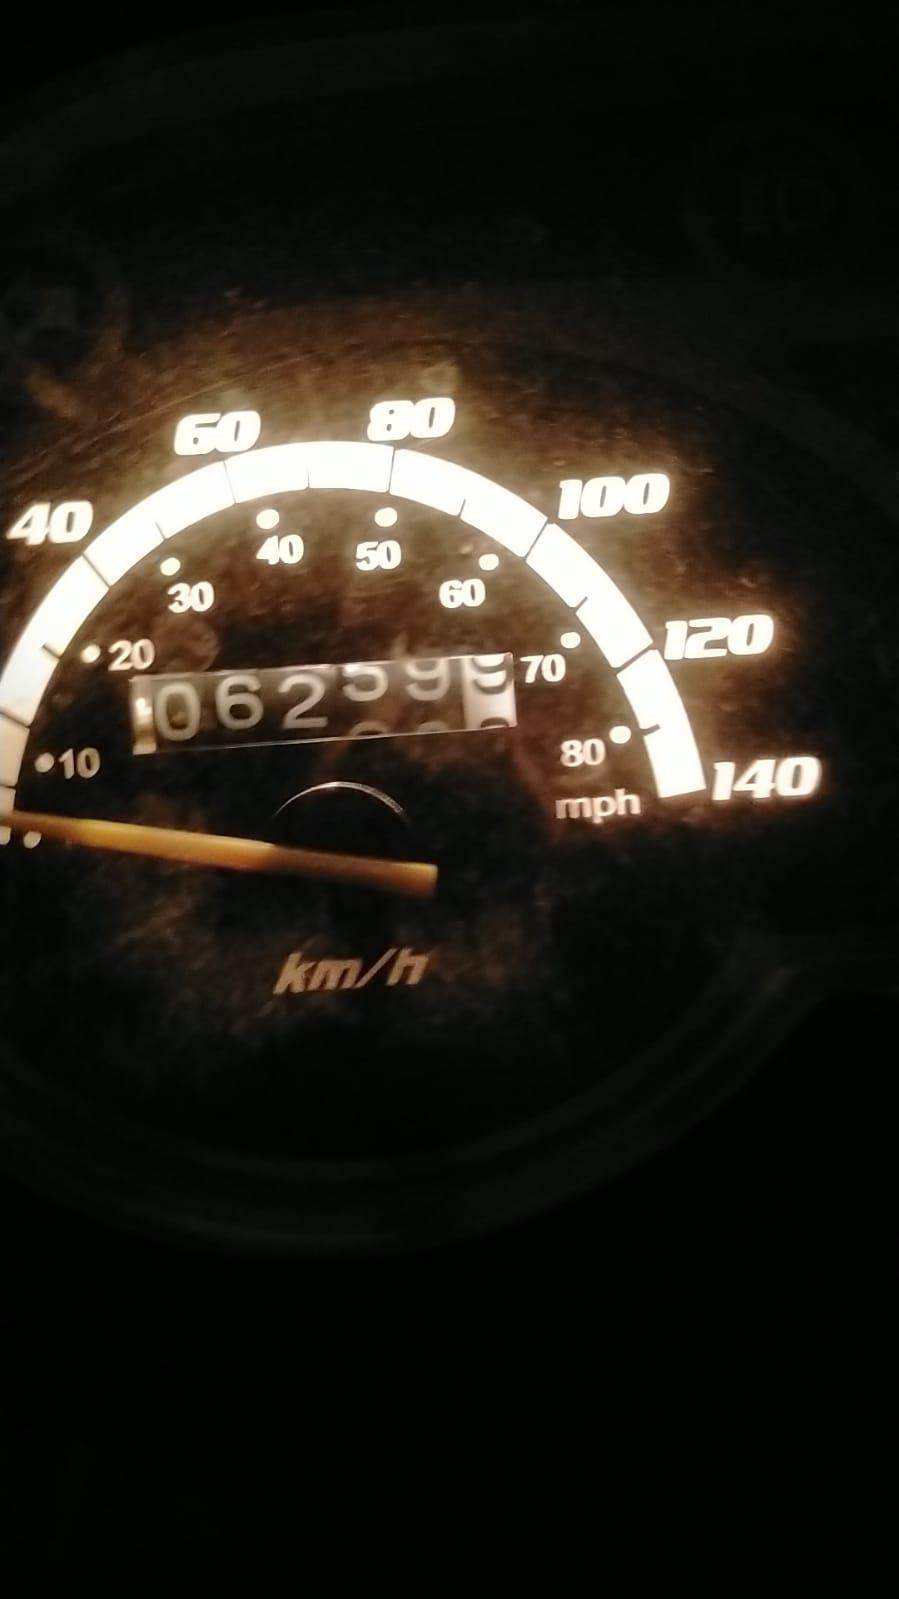0: (151, 680, 203, 742), (133, 637, 156, 669)
2: (277, 672, 331, 733)
5: (340, 658, 396, 704)
6: (213, 670, 267, 731)
7: (520, 655, 540, 684)
9: (404, 655, 456, 703), (467, 649, 517, 697)
odometer: (122, 641, 535, 754)
